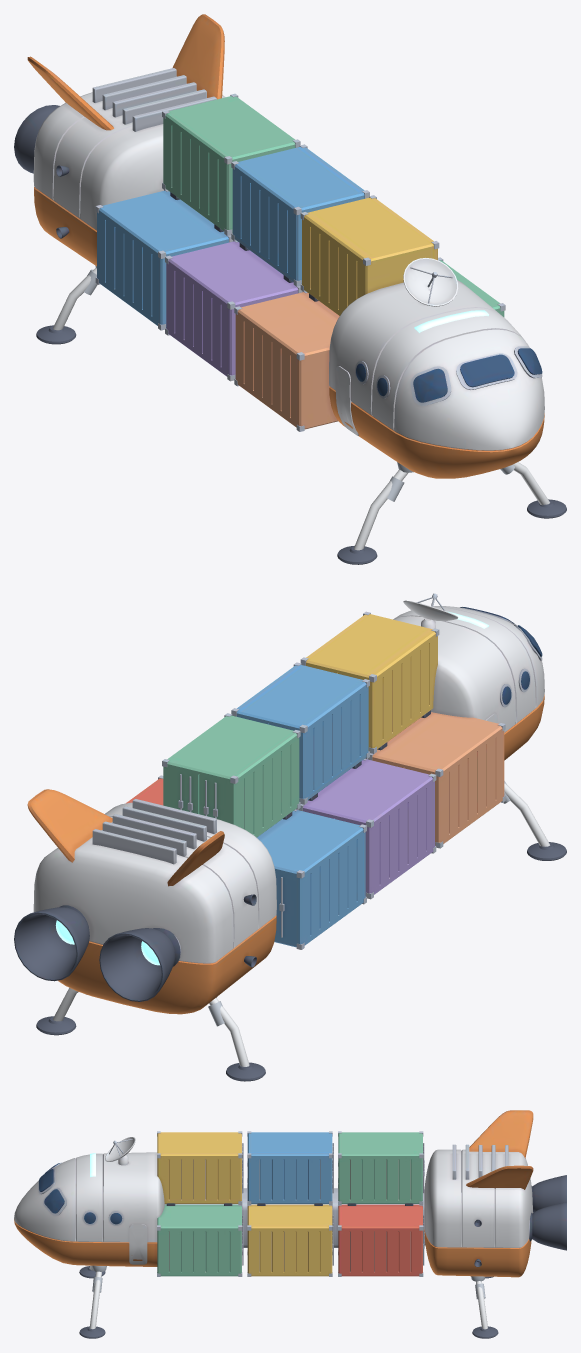
3 views of the same model, one above another, from view 1: azimuth 30°, elevation 25°; view 2: azimuth 150°, elevation 25°; view 3: azimuth 270°, elevation 25° (orthographic). The views are drawn at different scales.
Visible parts, largest first — view 1: cargo-spaceship_body, cargo-spaceship_leg_front_r, cargo-spaceship_leg_rear_r, cargo-spaceship_leg_front_l; view 2: cargo-spaceship_body, cargo-spaceship_leg_rear_r, cargo-spaceship_leg_front_r, cargo-spaceship_leg_rear_l; view 3: cargo-spaceship_body, cargo-spaceship_leg_front_l, cargo-spaceship_leg_rear_l.
Boxes of the visible parts, x1,y1,x2,y2 form: cargo-spaceship_body: (14,14,544,478); cargo-spaceship_leg_front_r: (337,462,413,564); cargo-spaceship_leg_rear_r: (36,265,97,344); cargo-spaceship_leg_front_l: (500,462,566,518); cargo-spaceship_body: (14,593,544,1014); cargo-spaceship_leg_rear_r: (208,997,265,1081); cargo-spaceship_leg_front_r: (503,781,566,860); cargo-spaceship_leg_rear_l: (36,988,86,1035); cargo-spaceship_body: (14,1110,566,1277); cargo-spaceship_leg_front_l: (79,1265,106,1338); cargo-spaceship_leg_rear_l: (471,1276,498,1338).
Size of the model in its own units: 7.1 by 7.65 by 23.22.
15 materials, 1 textured.
